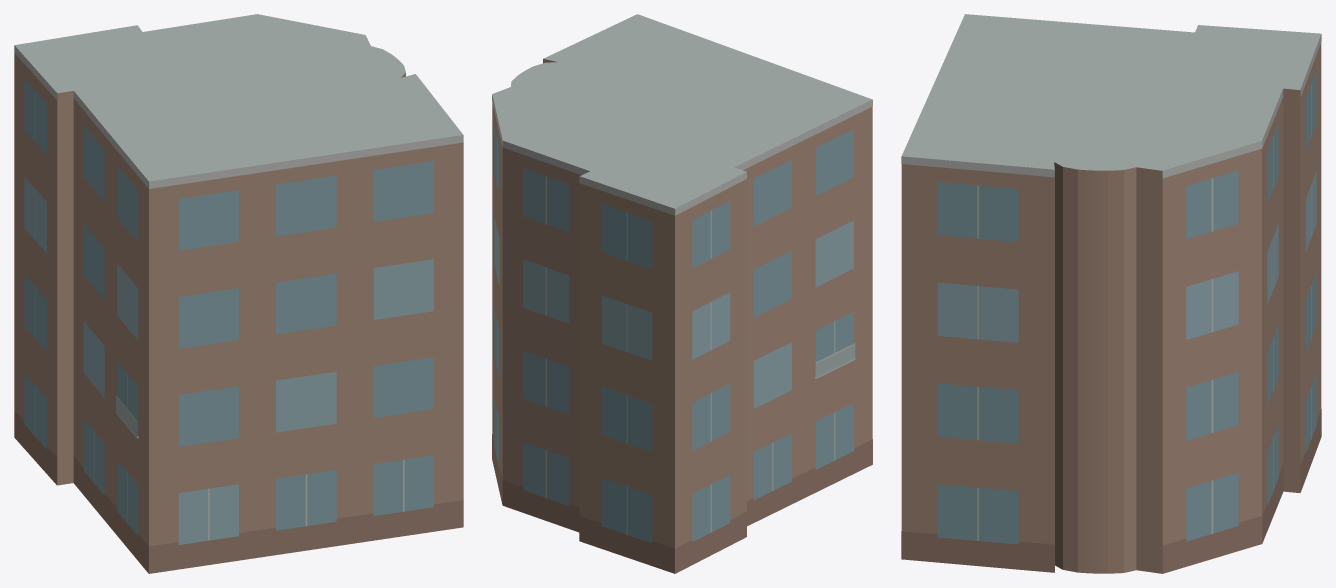
File: survey-upis-32661970.glb
3 renders of one model, left to right at view 1: azimuth 30°, elevation 25°; view 2: azimuth 150°, elevation 25°; view 3: azimuth 270°, elevation 25°, orthographic. The views are drawn at different scales.
Parts seen in each view (by area): view 1: survey-upis-32661970.tmp; view 2: survey-upis-32661970.tmp; view 3: survey-upis-32661970.tmp.
Boxes of the visible parts, bbox=[...] form: survey-upis-32661970.tmp: bbox=[14, 14, 463, 573]; survey-upis-32661970.tmp: bbox=[492, 14, 872, 573]; survey-upis-32661970.tmp: bbox=[901, 14, 1321, 573].
Bounding box in the file's own units: 10.69 × 12.8 × 12.1.
